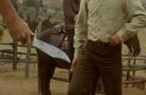knife: (15, 26, 73, 64)
